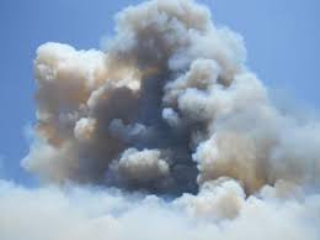smoke: (25, 4, 291, 212)
